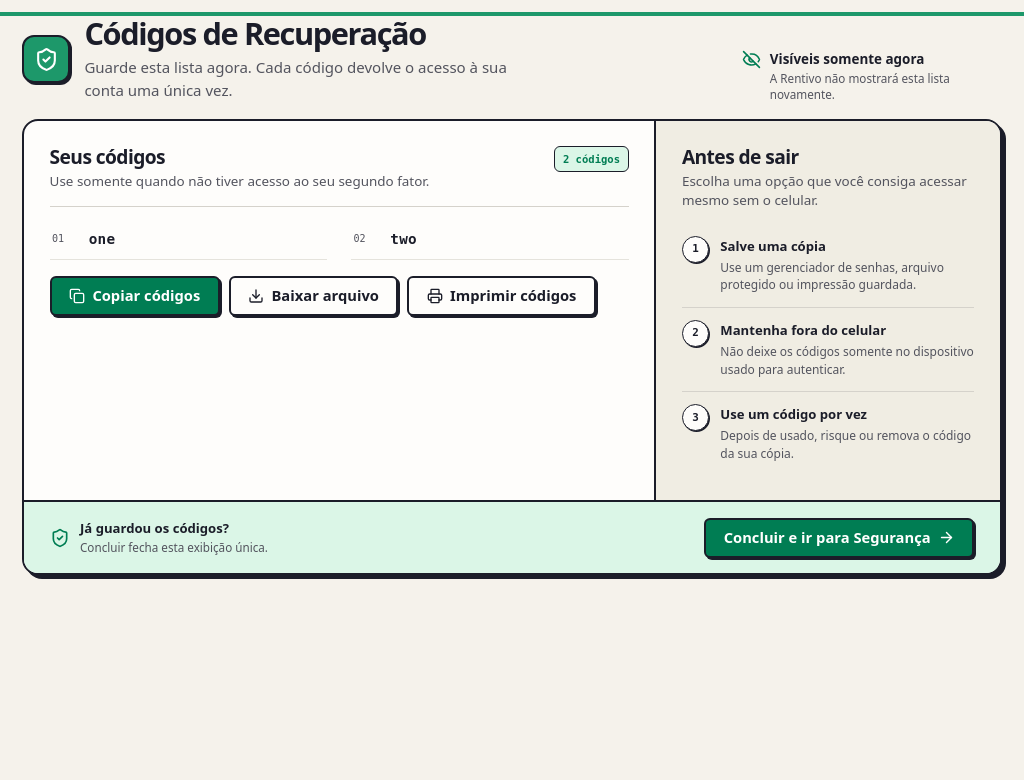
downloads the codes in a private text file
Click the button "Baixar arquivo" at [314, 296], box [229, 276, 398, 316]
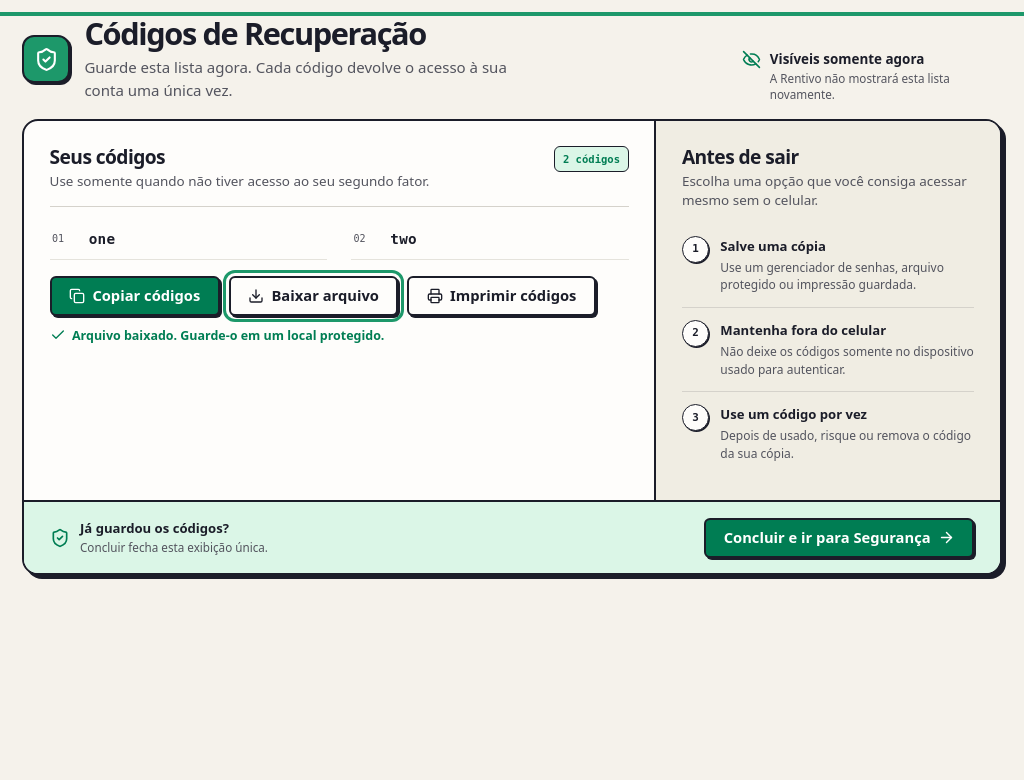
Expected: the message reads "Arquivo baixado. Guarde-o em um local protegido.", [72, 327, 384, 344]
